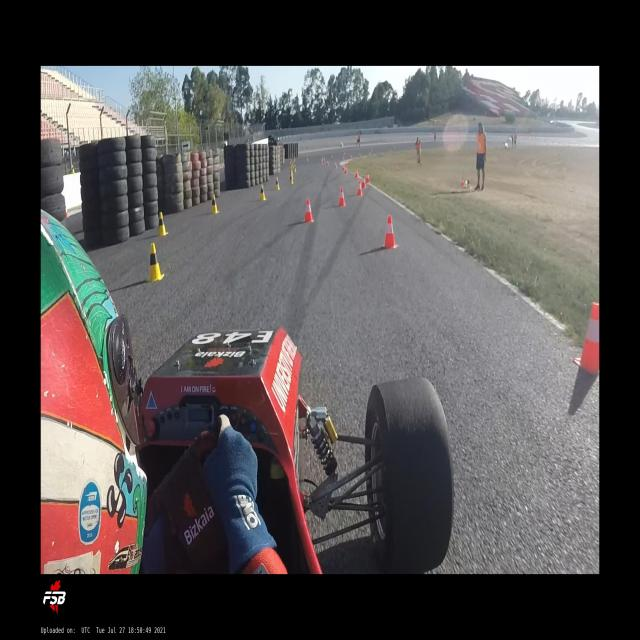orange_cone: (575, 302, 599, 373), (383, 215, 398, 249), (304, 198, 314, 223), (338, 186, 346, 206), (357, 179, 363, 196), (361, 175, 366, 189), (460, 175, 465, 188), (366, 172, 370, 182), (344, 166, 348, 174), (355, 168, 358, 178), (66, 206, 68, 218), (334, 162, 338, 168), (327, 160, 329, 166)
yellow_cone: (146, 243, 165, 283), (157, 212, 169, 237), (211, 194, 220, 214), (259, 184, 267, 201), (274, 178, 280, 190), (466, 177, 470, 188), (290, 174, 294, 185), (71, 164, 75, 173), (294, 165, 297, 173)
